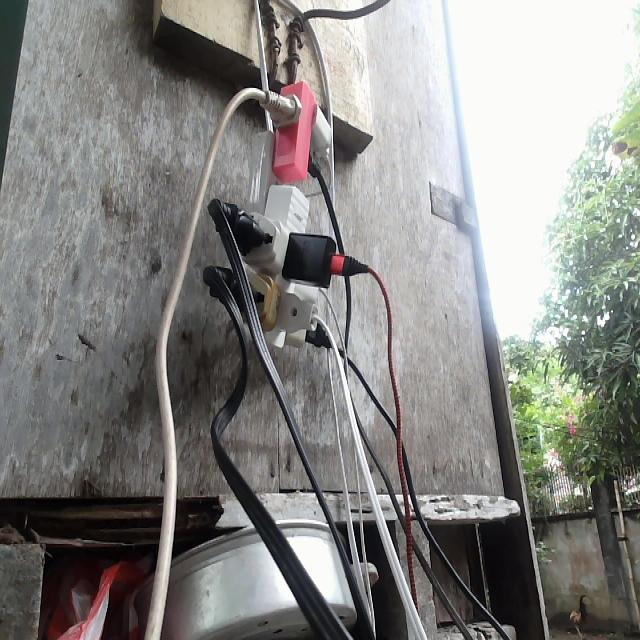-: (205, 80, 371, 348)
